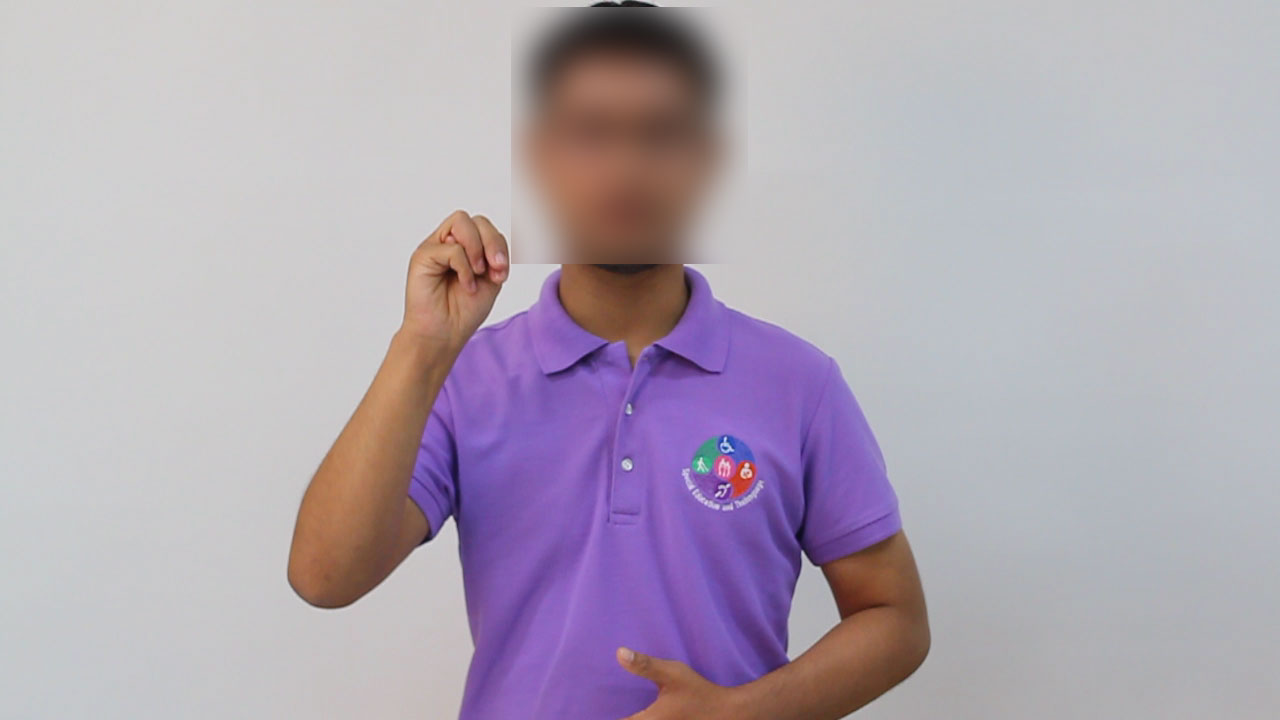mor: (391, 197, 519, 352)
